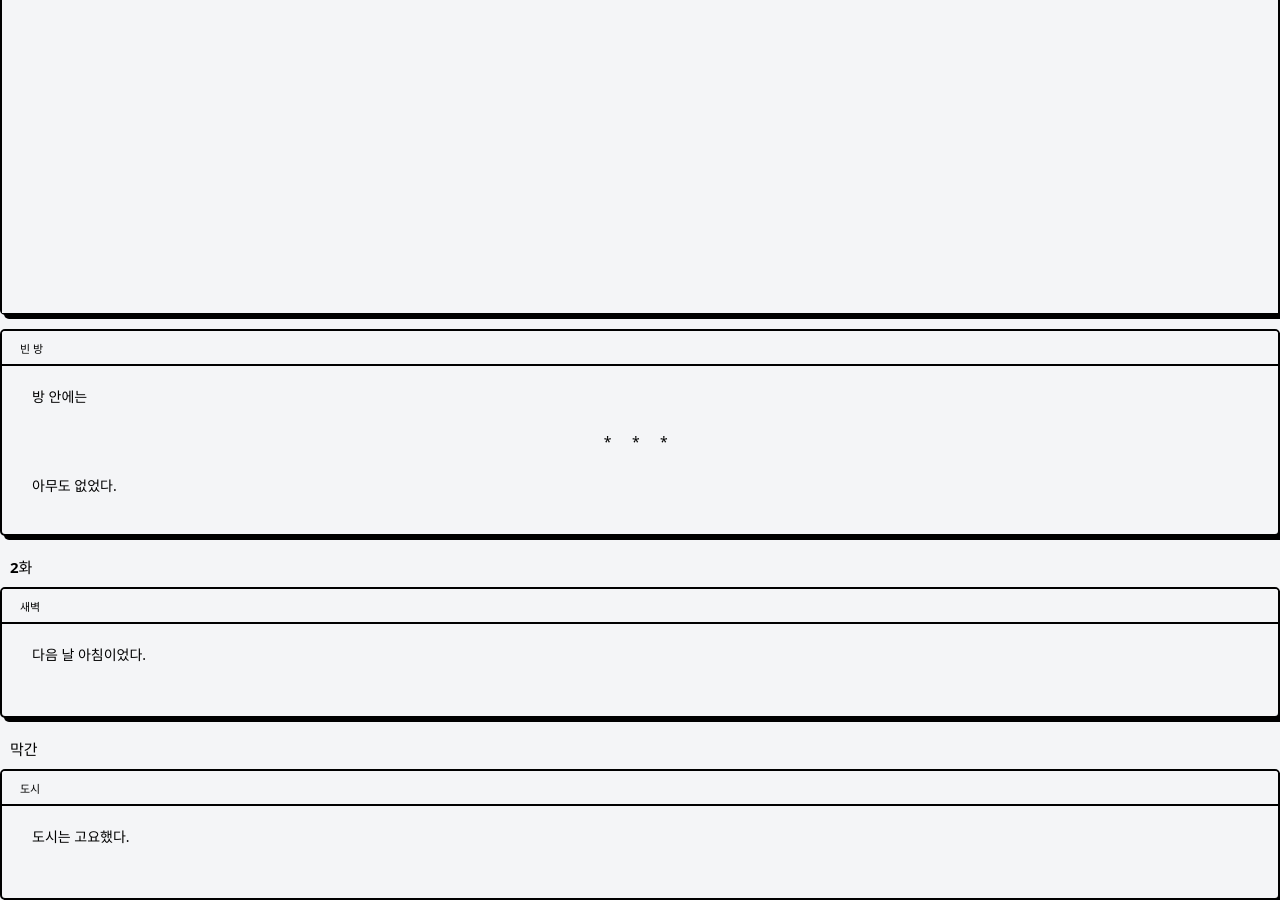
Phase 1B Scrivenings › keeps exactly one live editor and saves before activating another block
(page scrolled)
What coordinates should you click on to do the following:
click the button with aria-label "빈 방 장면 편집"
I would click on:
 (60, 396)
Its box is left=32, top=387, right=676, bottom=495.
(page scrolled)
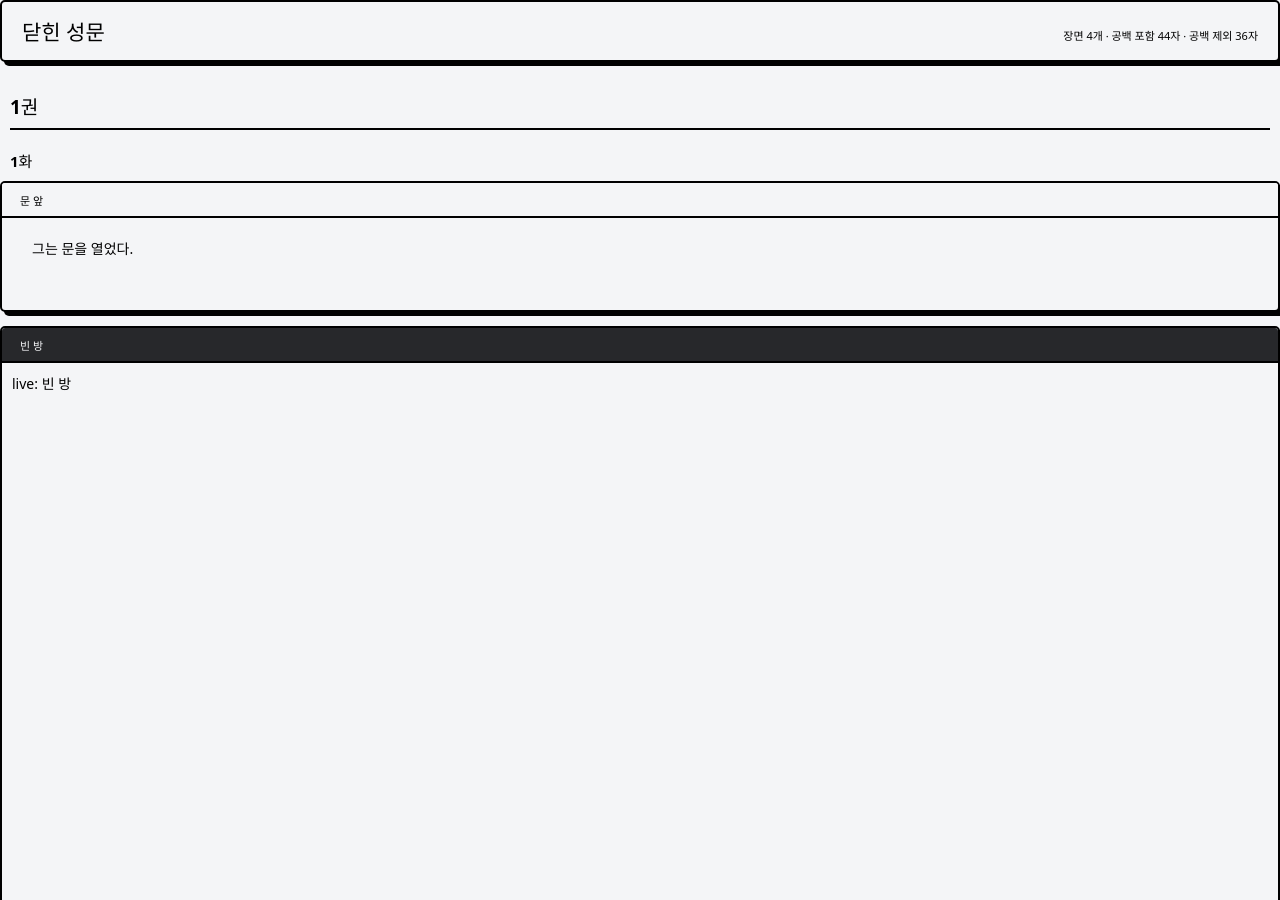
Expected: the text "live: 빈 방" is shown, left=12, top=374, right=71, bottom=393
